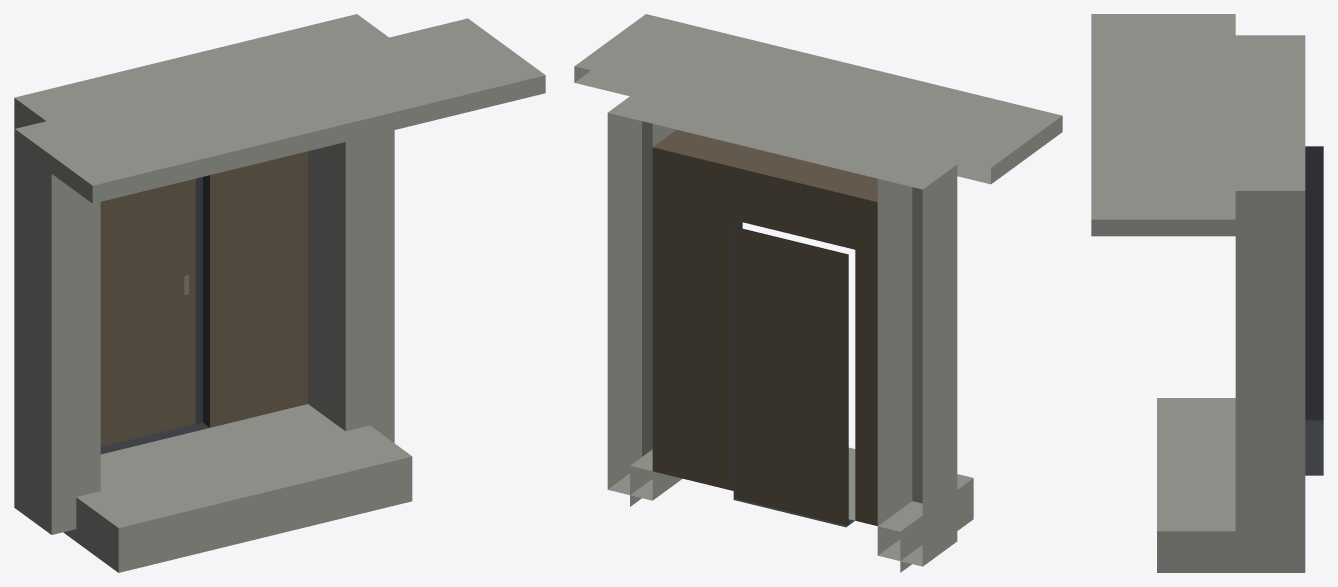
Rendered from entrance.fbx.
The picture shows the model from 3 angles, left to right: view 1: azimuth 30°, elevation 25°; view 2: azimuth 150°, elevation 25°; view 3: azimuth 270°, elevation 25°; orthographic projection. The views are drawn at different scales.
Visible parts, largest first — view 1: a2000s3/0/entrance; view 2: a2000s3/0/entrance; view 3: a2000s3/0/entrance.
Boxes of the visible parts, left/top/right/bottom form: a2000s3/0/entrance: left=14, top=14, right=545, bottom=572; a2000s3/0/entrance: left=574, top=14, right=1062, bottom=572; a2000s3/0/entrance: left=1091, top=14, right=1323, bottom=572.
Bounding box in the file's own units: 3.7 × 3.34 × 1.77.
